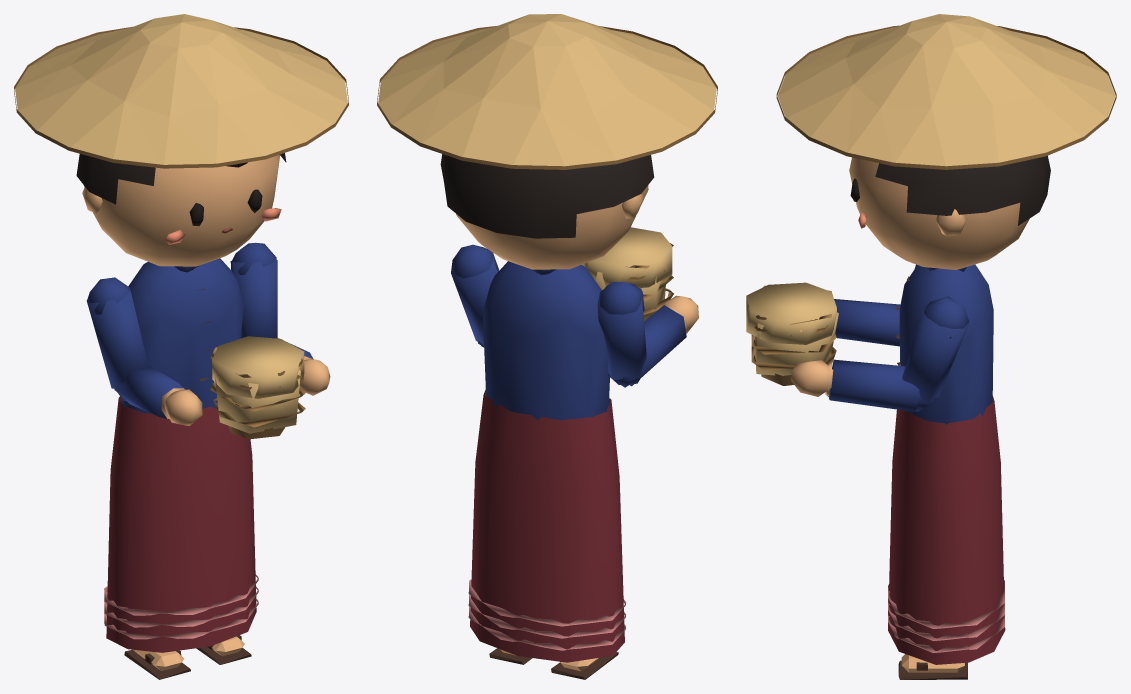
File: isan_sticky_rice_woman.glb
3 views of the same model, side by side, from view 1: azimuth 30°, elevation 25°; view 2: azimuth 150°, elevation 25°; view 3: azimuth 270°, elevation 25° (orthographic).
Parts seen in each view (by area): view 1: head, body, prop_kratip, arm_R, arm_L, forearm_R, shin_R, forearm_L, shin_L; view 2: head, body, prop_kratip, arm_R, arm_L, forearm_R, shin_R; view 3: head, body, prop_kratip, forearm_L, arm_L, forearm_R, shin_L.
Part boxes in pixels (x1,y1,x2,y2): head: (14, 14, 348, 266); body: (104, 258, 258, 652); prop_kratip: (210, 336, 305, 439); arm_R: (86, 277, 148, 388); arm_L: (230, 242, 277, 338); forearm_R: (114, 365, 202, 425); shin_R: (124, 649, 190, 679); forearm_L: (258, 336, 330, 395); shin_L: (196, 635, 251, 664); head: (377, 14, 717, 269); body: (468, 261, 626, 662); prop_kratip: (582, 227, 673, 321); arm_R: (597, 282, 646, 387); arm_L: (451, 244, 499, 346); forearm_R: (608, 295, 698, 386); shin_R: (551, 652, 618, 679); head: (776, 14, 1116, 269); body: (888, 264, 1005, 664); prop_kratip: (746, 282, 838, 385); forearm_L: (791, 359, 935, 411); arm_L: (902, 296, 969, 411); forearm_R: (834, 299, 900, 346); shin_L: (898, 654, 967, 679).
Bounding box in the file's own units: 0.7702 × 1.59 × 0.8386.
